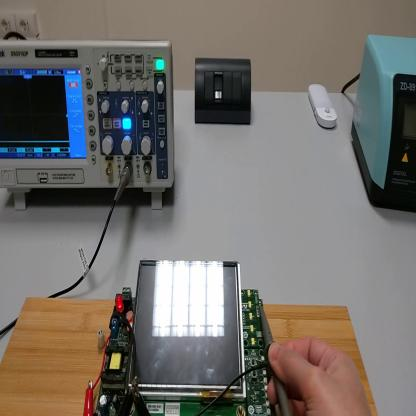hand: (268, 337, 372, 416)
low voltage board: (93, 261, 276, 415)
oscilloscope: (2, 44, 174, 212)
oscilloscope probe tip: (260, 305, 291, 416)
welder station: (351, 38, 416, 208)
working area: (2, 297, 378, 413)
